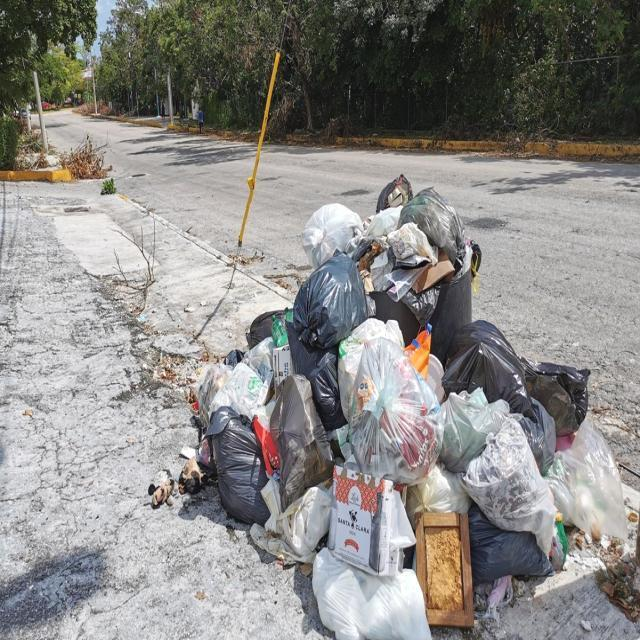high trash: (151, 178, 626, 640)
